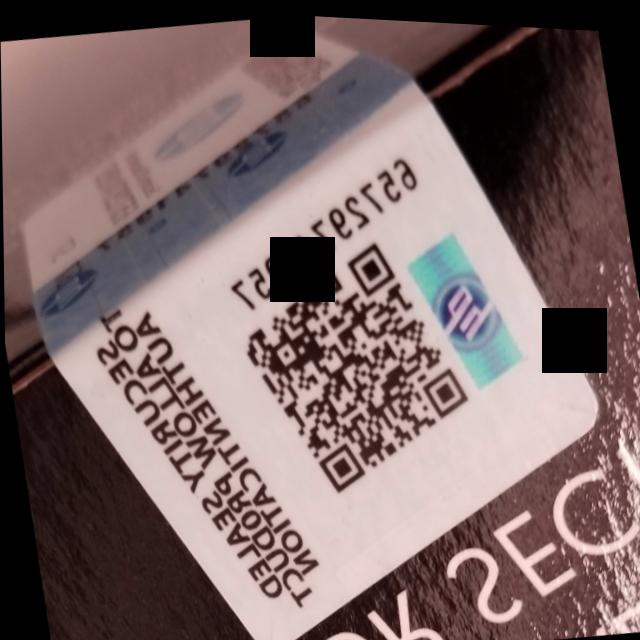QR_CODE: (222, 211, 487, 516)
